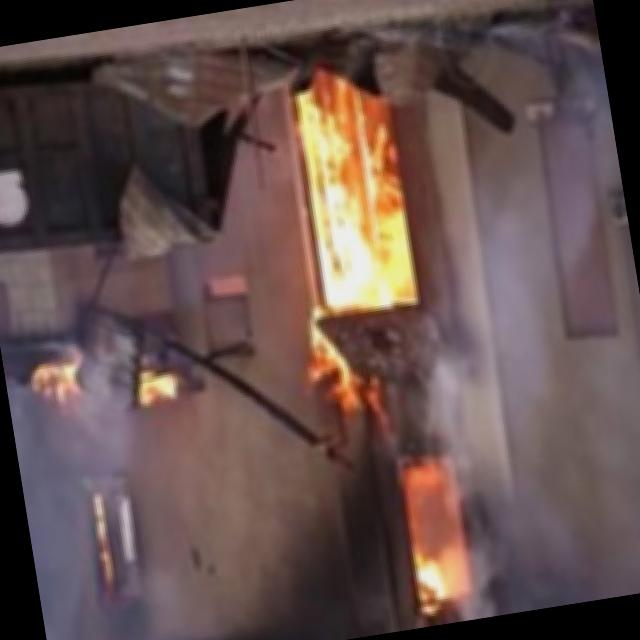fire: (287, 76, 418, 323), (390, 463, 492, 630)
